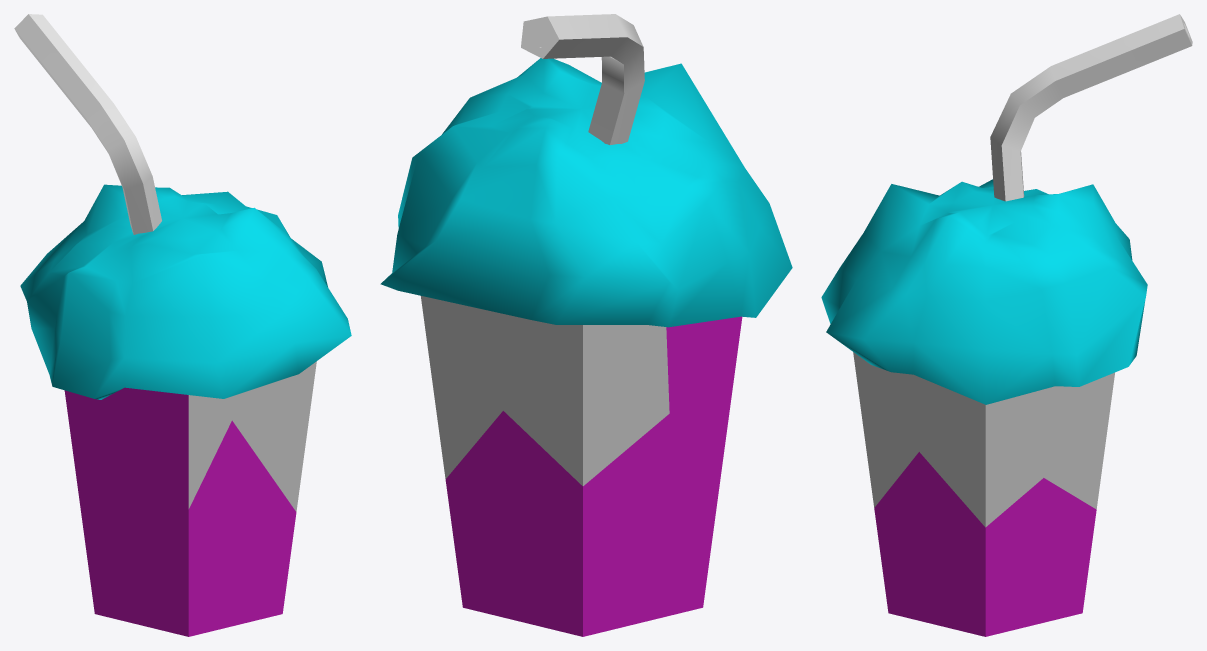
Rendered from Prop_SodaCup_Mod_02.fbx.
3 renders of one model, left to right at view 1: azimuth 30°, elevation 25°; view 2: azimuth 150°, elevation 25°; view 3: azimuth 270°, elevation 25°, orthographic. The views are drawn at different scales.
Visible parts, largest first — view 1: SodaCup1; view 2: SodaCup1; view 3: SodaCup1.
Boxes of the visible parts, <box> form: SodaCup1: <box>14,14,351,636</box>; SodaCup1: <box>380,14,792,636</box>; SodaCup1: <box>821,14,1192,636</box>.
Size of the model in its own units: 0.2472 by 0.442 by 0.2743.
